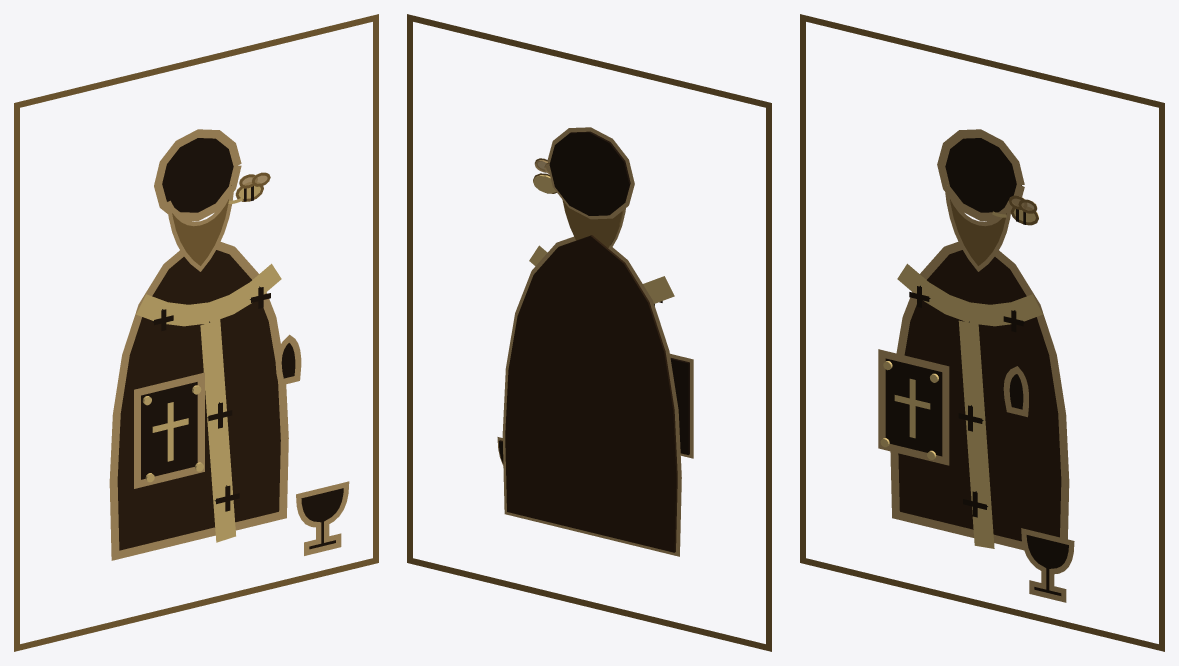
Rendered from npc-john-chrysostom.glb.
3 renders of one model, left to right at view 1: azimuth 30°, elevation 25°; view 2: azimuth 150°, elevation 25°; view 3: azimuth 330°, elevation 25°, orthographic.
Visible parts, largest first — view 1: npc-john-chrysostom; view 2: npc-john-chrysostom; view 3: npc-john-chrysostom.
Boxes of the visible parts, x1,y1,x2,y2 form: npc-john-chrysostom: (14,14,378,651); npc-john-chrysostom: (407,14,771,651); npc-john-chrysostom: (800,14,1164,651).
Size of the model in its own units: 1.14 by 1.64 by 0.1654.
